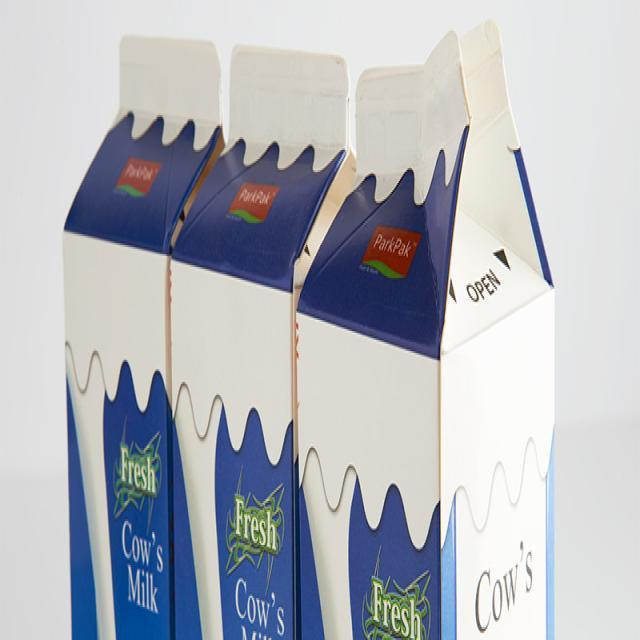Carton: (295, 0, 571, 640), (170, 23, 371, 640), (41, 9, 232, 640)
